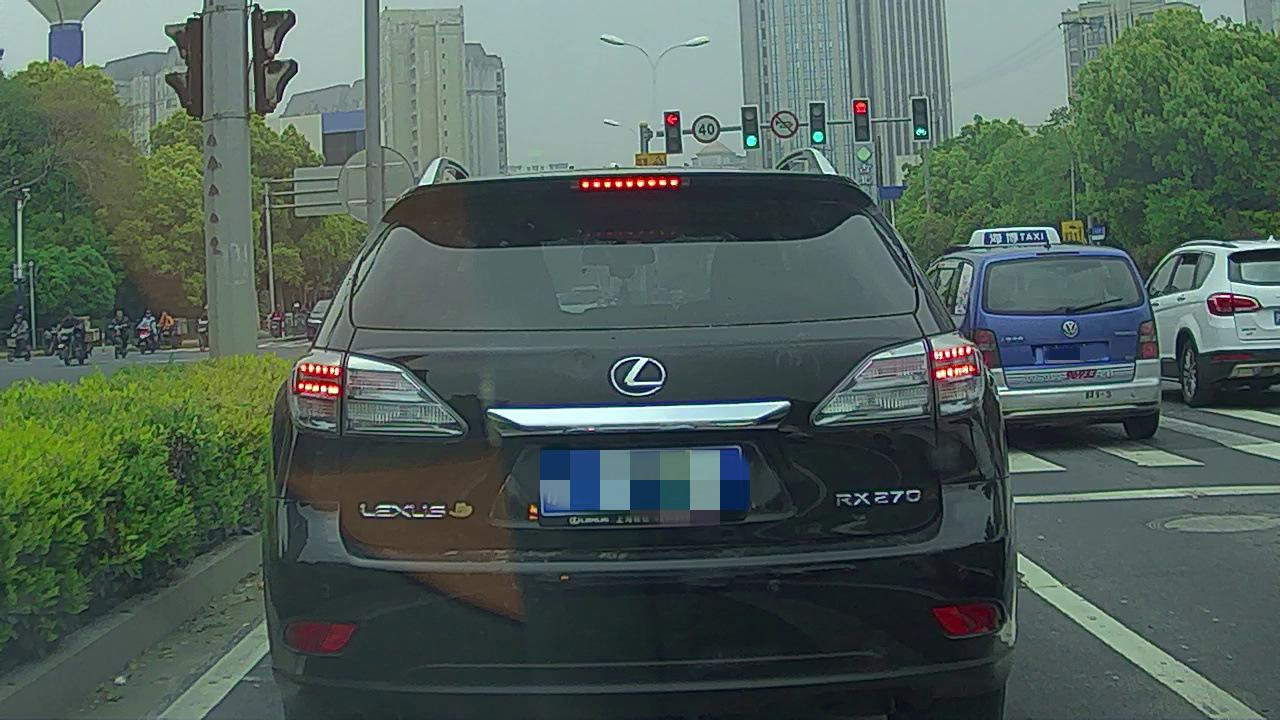traffic_light: (912, 97, 930, 140), (665, 111, 682, 154), (810, 103, 827, 146), (853, 98, 870, 140), (743, 107, 759, 148)
